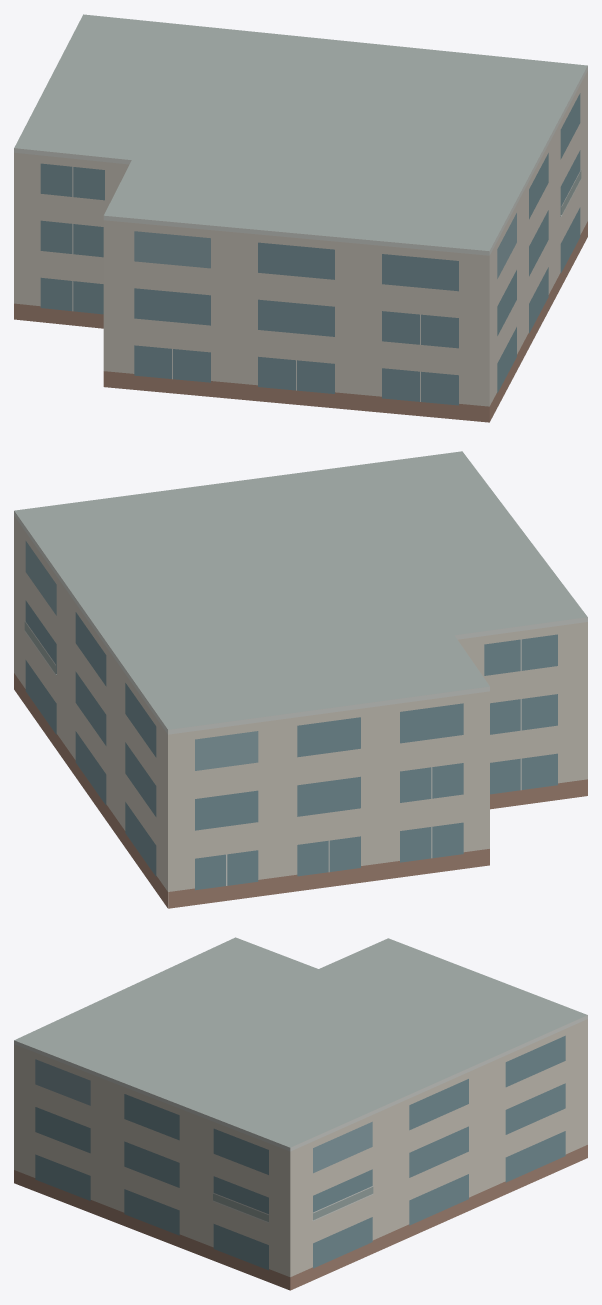
Rendered from survey-upis-32642290.glb.
3 views of the same model, one above another, from view 1: azimuth 30°, elevation 25°; view 2: azimuth 150°, elevation 25°; view 3: azimuth 270°, elevation 25° (orthographic). The views are drawn at different scales.
Parts seen in each view (by area): view 1: survey-upis-32642290.tmp; view 2: survey-upis-32642290.tmp; view 3: survey-upis-32642290.tmp.
Part boxes in pixels (x1,y1,x2,y2): survey-upis-32642290.tmp: [14, 14, 587, 422]; survey-upis-32642290.tmp: [14, 451, 587, 908]; survey-upis-32642290.tmp: [14, 937, 587, 1290].
Bounding box in the file's own units: 28.9 × 9.15 × 33.32.
